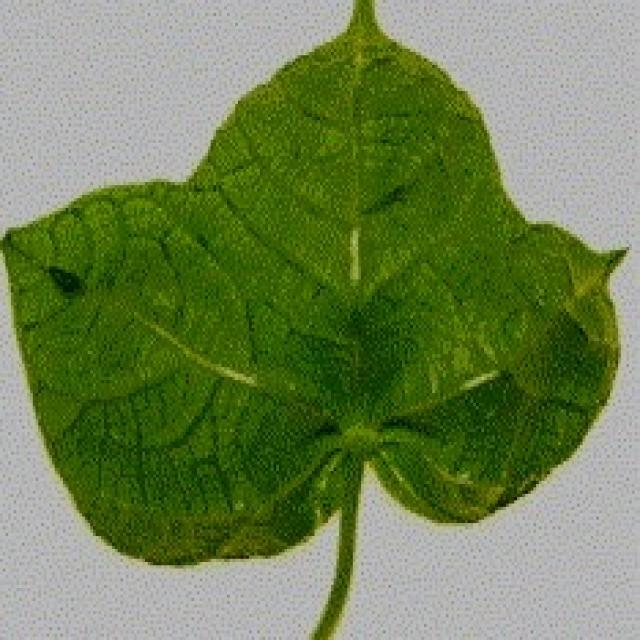Leaf Curl Virus: (114, 212, 557, 474)
